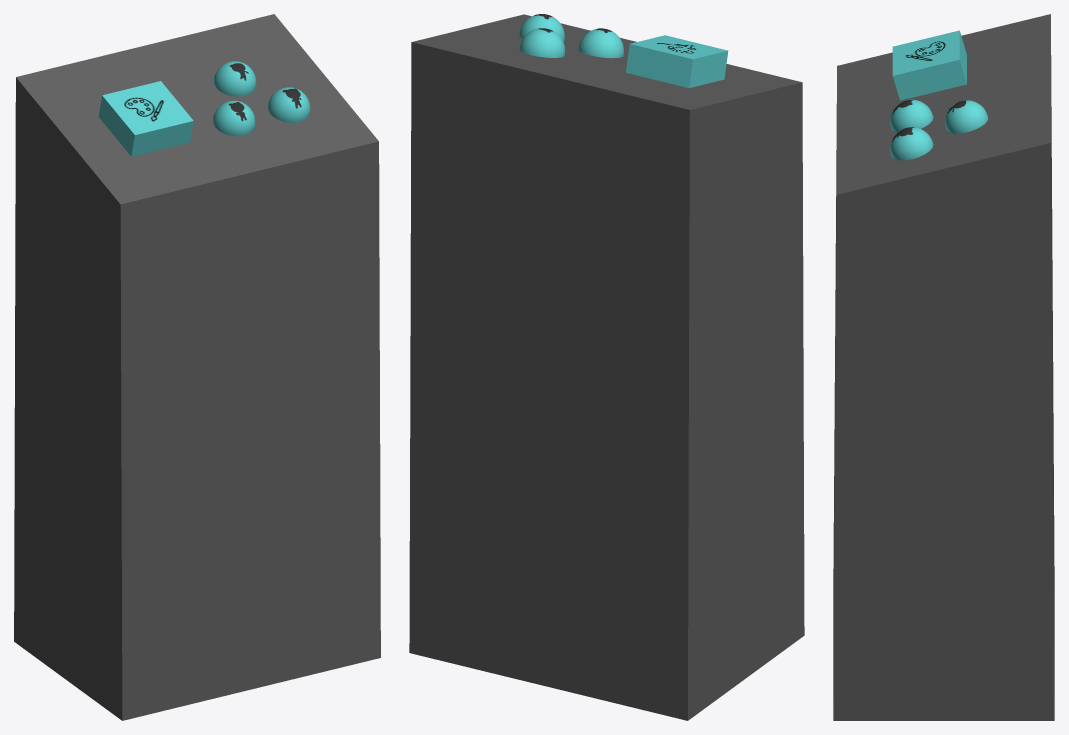
The model's file is pcu_controller_002.fbx.
3 renders of one model, left to right at view 1: azimuth 30°, elevation 25°; view 2: azimuth 150°, elevation 25°; view 3: azimuth 270°, elevation 25°, orthographic. The views are drawn at different scales.
Parts seen in each view (by area): view 1: box, colorbox, dance2, dance3, dance1; view 2: box, colorbox, dance1, dance2, dance3; view 3: box, colorbox, dance3, dance1, dance2.
Part boxes in pixels (<box>): box: <box>14,14,380,720</box>; colorbox: <box>98,81,193,156</box>; dance2: <box>213,100,255,136</box>; dance3: <box>268,87,310,122</box>; dance1: <box>213,61,256,96</box>; box: <box>409,14,804,720</box>; colorbox: <box>626,35,728,87</box>; dance1: <box>519,28,565,57</box>; dance2: <box>578,28,623,58</box>; dance3: <box>519,14,564,42</box>; box: <box>833,14,1054,720</box>; colorbox: <box>892,30,966,100</box>; dance3: <box>890,127,933,160</box>; dance1: <box>945,100,988,133</box>; dance2: <box>890,99,933,132</box>.
Size of the model in its own units: 138 by 290 by 100.
Materials: 5 (4 with a texture image).
